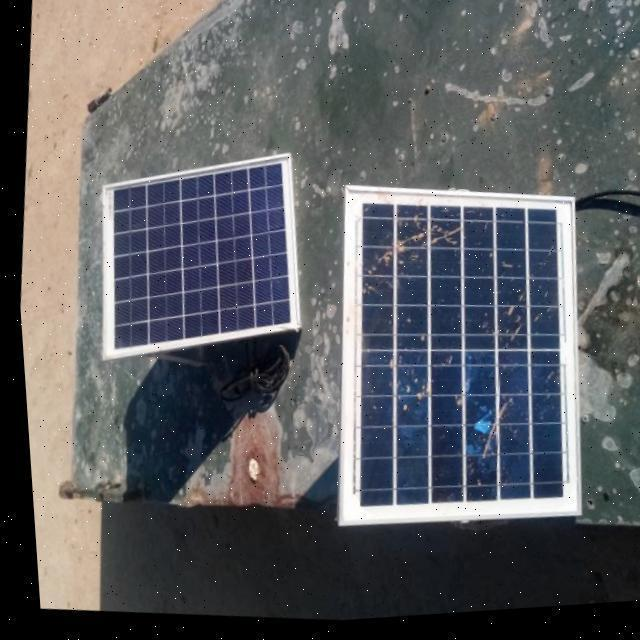Normal Solar Panel: (80, 135, 313, 378)
